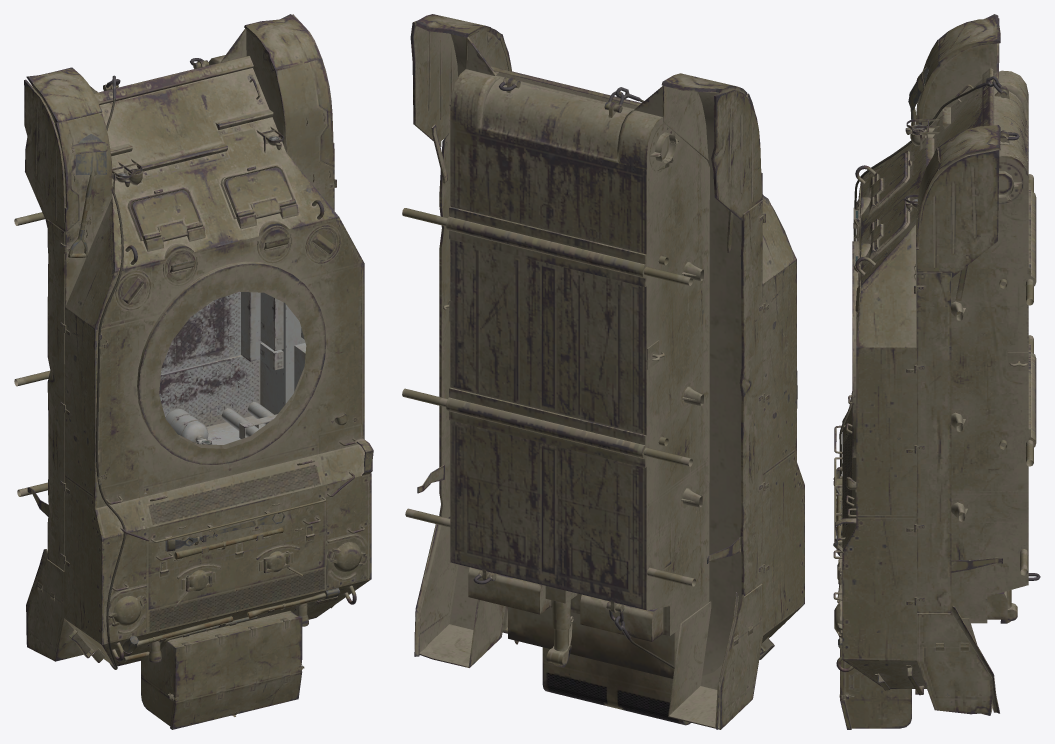
Rendered from Hull.glb.
The picture shows the model from 3 angles, left to right: view 1: azimuth 30°, elevation 25°; view 2: azimuth 150°, elevation 25°; view 3: azimuth 270°, elevation 25°; orthographic projection. The views are drawn at different scales.
Parts seen in each view (by area): view 1: set_0_group_0; view 2: set_0_group_0; view 3: set_0_group_0.
Boxes of the visible parts, x1=… form: set_0_group_0: x1=14, y1=14, x2=373, y2=729; set_0_group_0: x1=402, y1=14, x2=804, y2=729; set_0_group_0: x1=833, y1=14, x2=1040, y2=729.
Bounding box in the file's own units: 2.31 × 5.01 × 1.51.
Materials: 1 (1 with a texture image).
